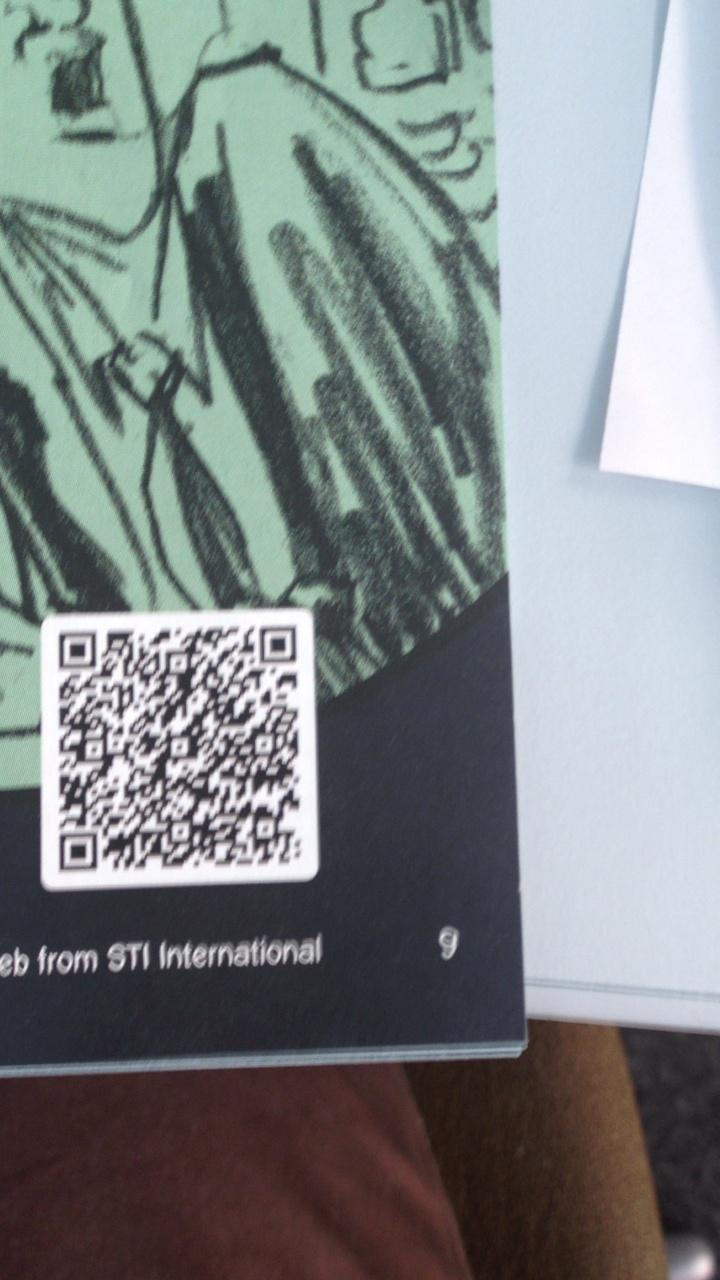qr_code: (59, 626, 302, 872)
